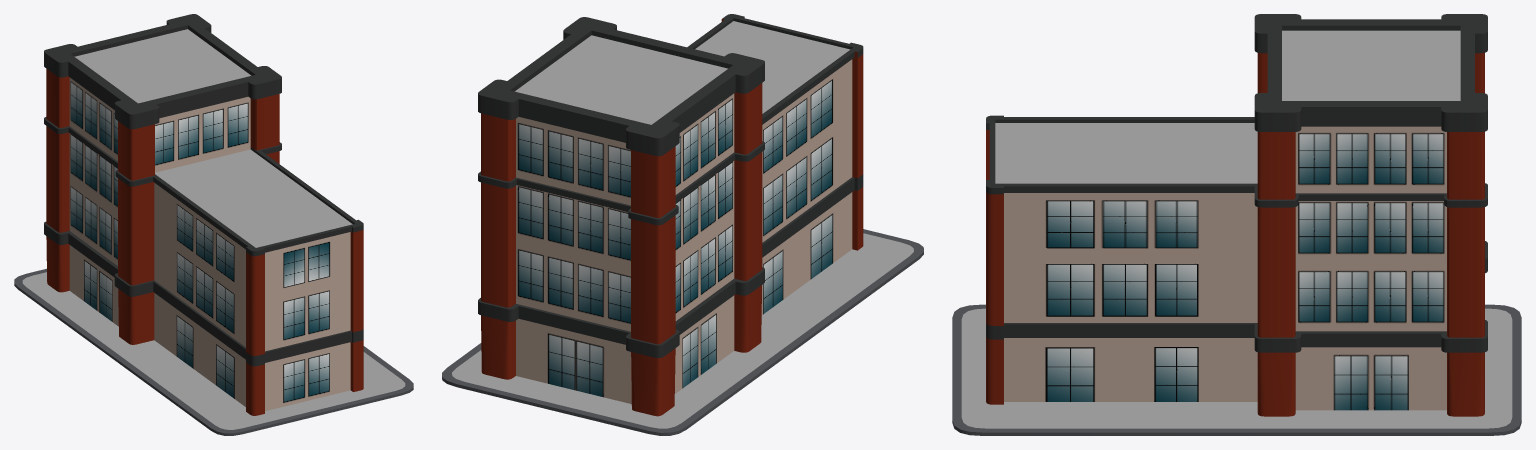
Rendered from Communiste_Bat_2.fbx.
The picture shows the model from 3 angles, left to right: view 1: azimuth 30°, elevation 25°; view 2: azimuth 150°, elevation 25°; view 3: azimuth 270°, elevation 25°; orthographic projection. The views are drawn at different scales.
Visible parts, largest first — view 1: Communiste_Bat_2; view 2: Communiste_Bat_2; view 3: Communiste_Bat_2.
Boxes of the visible parts, left/top/right/bottom form: Communiste_Bat_2: left=14, top=14, right=413, bottom=435; Communiste_Bat_2: left=442, top=14, right=923, bottom=435; Communiste_Bat_2: left=952, top=14, right=1521, bottom=435.
Size of the model in its own units: 315 by 354 by 592.
